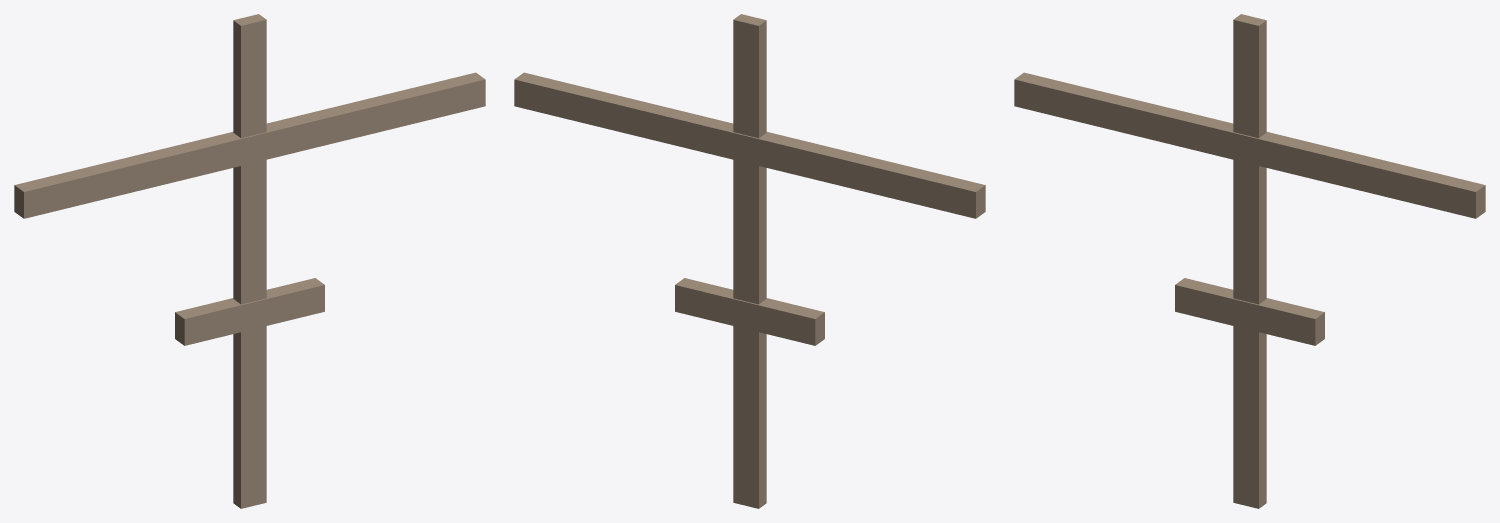
File: Scarecrow_Frame.FBX
The picture shows the model from 3 angles, left to right: view 1: azimuth 30°, elevation 25°; view 2: azimuth 150°, elevation 25°; view 3: azimuth 330°, elevation 25°; orthographic projection.
Visible parts, largest first — view 1: Box004; view 2: Box004; view 3: Box004.
Boxes of the visible parts, left/top/right/bottom form: Box004: left=14, top=14, right=485, bottom=508; Box004: left=514, top=14, right=985, bottom=508; Box004: left=1014, top=14, right=1485, bottom=508.
Bounding box in the file's own units: 101 × 101 × 3.63.
